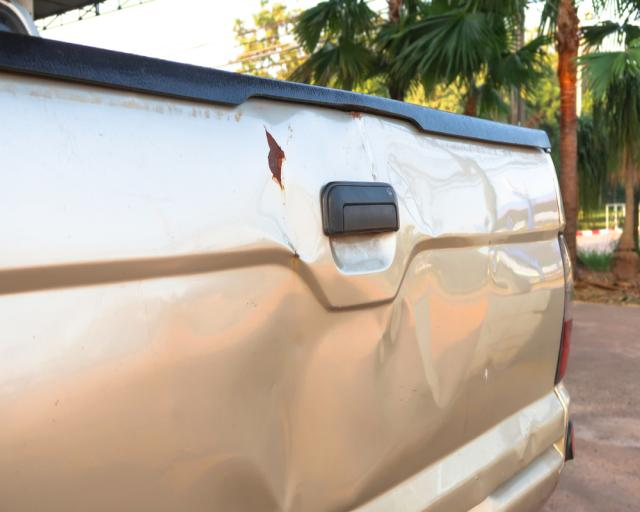dent: (247, 113, 492, 511)
